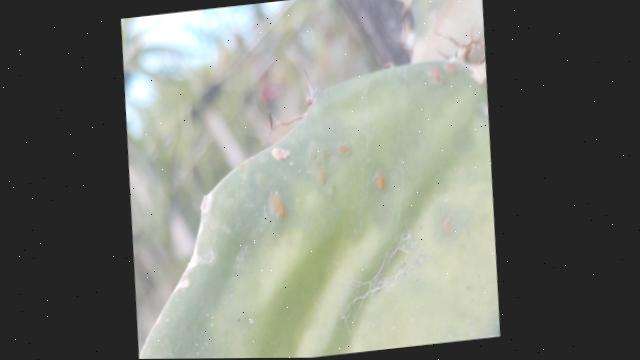stemcanker: (271, 188, 290, 223), (368, 170, 390, 196), (339, 139, 357, 164)
